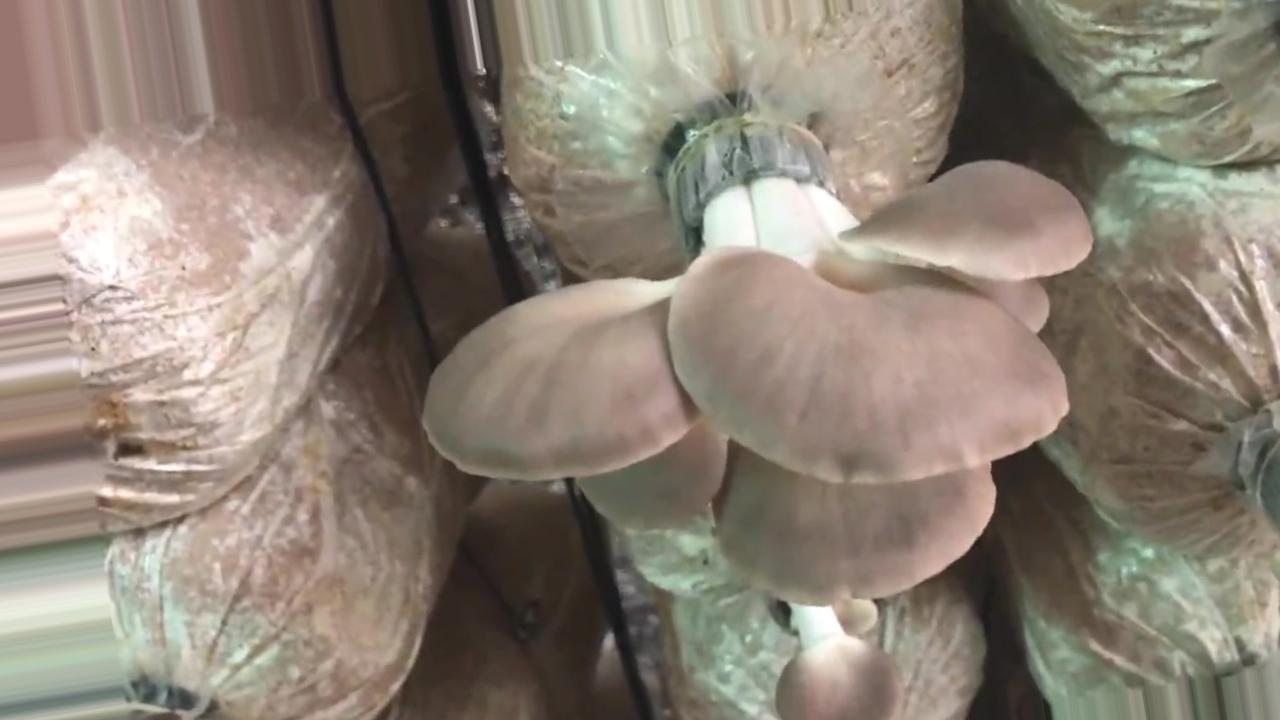nam: (423, 115, 1091, 604), (776, 596, 901, 720)
